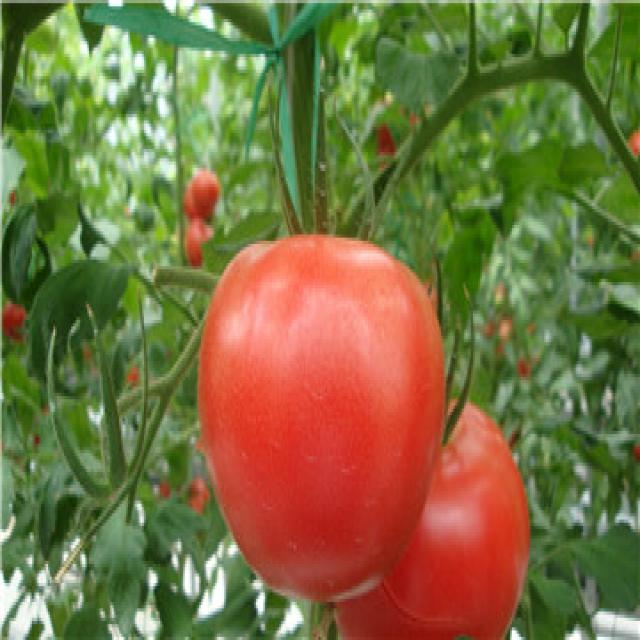tomato: (197, 233, 446, 607), (332, 406, 530, 640)
